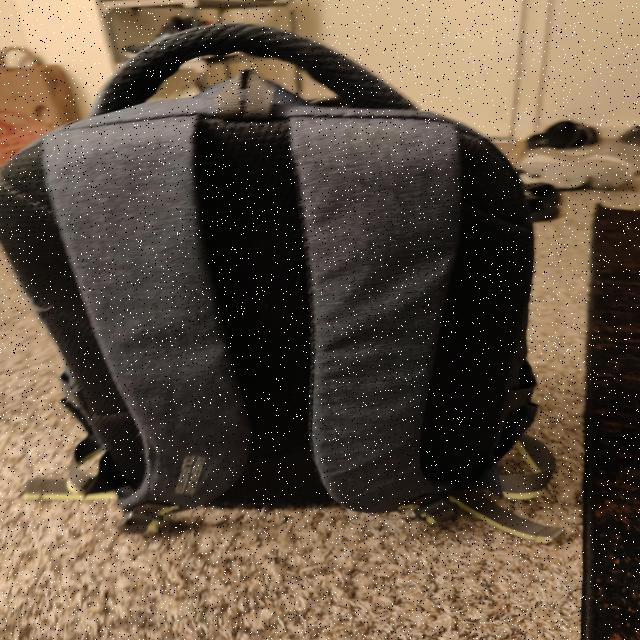bag: (0, 28, 500, 488)
